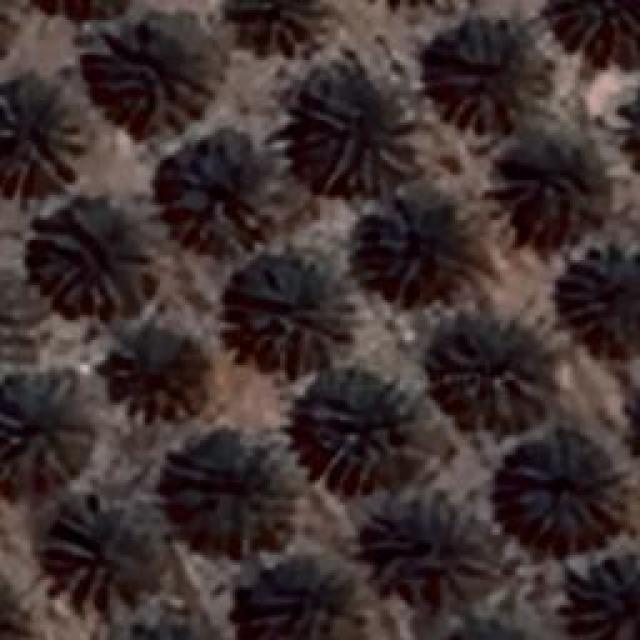PalmTree: (152, 432, 302, 558), (80, 20, 212, 130), (161, 129, 281, 249), (232, 258, 358, 372), (430, 312, 550, 426), (350, 188, 472, 300), (364, 498, 498, 596), (432, 20, 550, 130), (502, 132, 606, 246), (308, 378, 412, 488), (305, 88, 413, 190), (507, 440, 625, 532), (224, 565, 364, 640), (98, 326, 202, 422), (30, 212, 128, 312), (42, 500, 140, 600), (2, 77, 90, 185), (2, 372, 90, 480), (532, 0, 640, 85), (555, 238, 635, 352), (570, 552, 638, 638), (102, 592, 217, 640), (235, 0, 334, 55), (416, 607, 535, 640), (0, 569, 40, 640), (34, 0, 135, 25), (613, 84, 640, 175), (0, 0, 23, 69)
